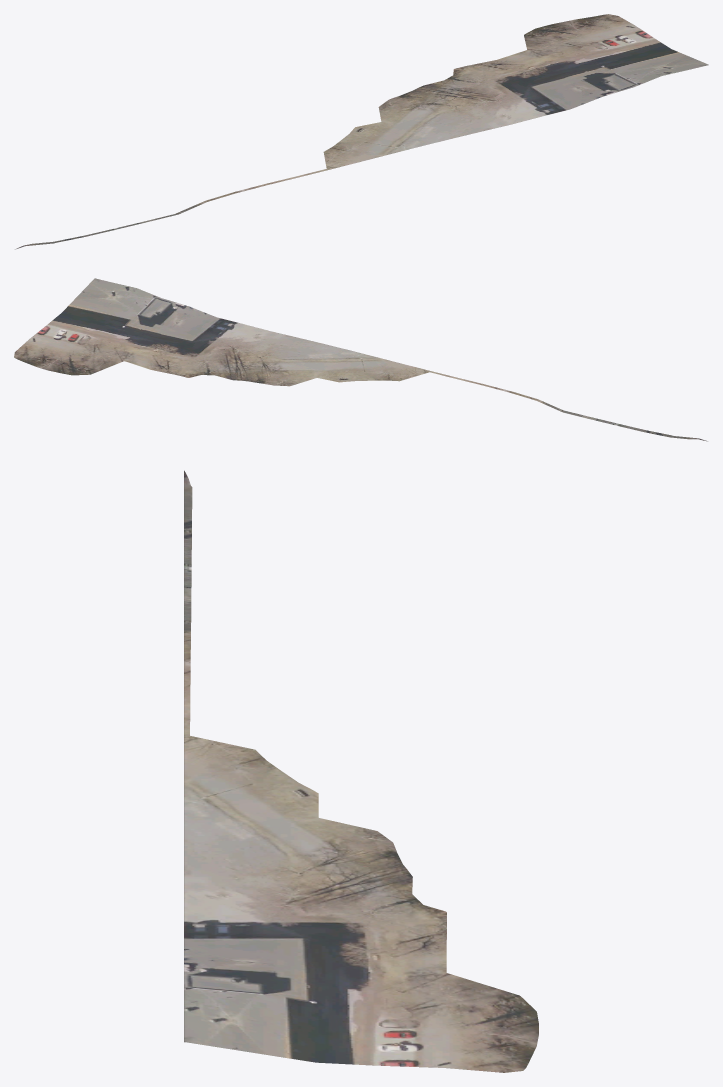
The model's file is CM_Terrain_24486773_6819589.fbx.
3 views of the same model, one above another, from view 1: azimuth 30°, elevation 25°; view 2: azimuth 150°, elevation 25°; view 3: azimuth 270°, elevation 25° (orthographic). The views are drawn at different scales.
Visible parts, largest first — view 1: CM_Terrain_24486773_6819589_LOD0; view 2: CM_Terrain_24486773_6819589_LOD0; view 3: CM_Terrain_24486773_6819589_LOD0.
Boxes of the visible parts, <box> form: CM_Terrain_24486773_6819589_LOD0: <box>15,14,708,249</box>; CM_Terrain_24486773_6819589_LOD0: <box>14,278,707,441</box>; CM_Terrain_24486773_6819589_LOD0: <box>184,470,538,1072</box>.
Size of what is drawn, in the model's own units: 164 by 4.78 by 41.17.
